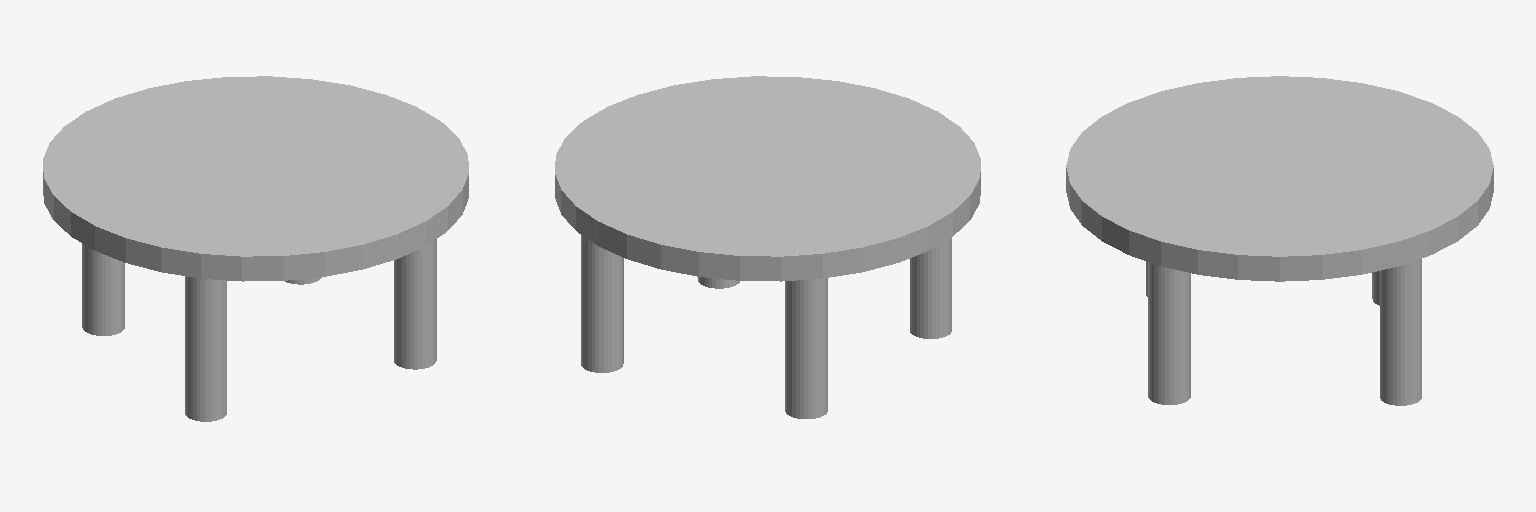
File: tableround.obj
The picture shows the model from 3 angles: view 1: azimuth 30°, elevation 25°; view 2: azimuth 150°, elevation 25°; view 3: azimuth 270°, elevation 25°; orthographic projection.
Visible parts, largest first — view 1: Cylinder.001; view 2: Cylinder.001; view 3: Cylinder.001.
Boxes of the visible parts, x1=… form: Cylinder.001: x1=43, y1=76, x2=468, y2=421; Cylinder.001: x1=555, y1=76, x2=980, y2=418; Cylinder.001: x1=1066, y1=76, x2=1493, y2=405.
Size of the model in its own units: 4 by 1.85 by 4.